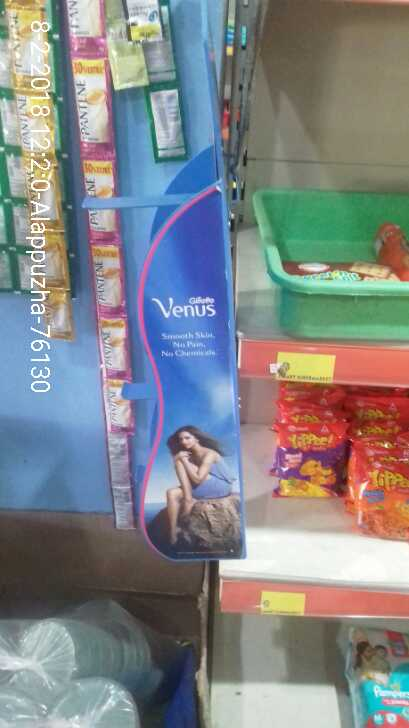pantene: (66, 60, 113, 146), (84, 160, 122, 242), (88, 244, 128, 309), (92, 376, 134, 434), (94, 314, 130, 374)
